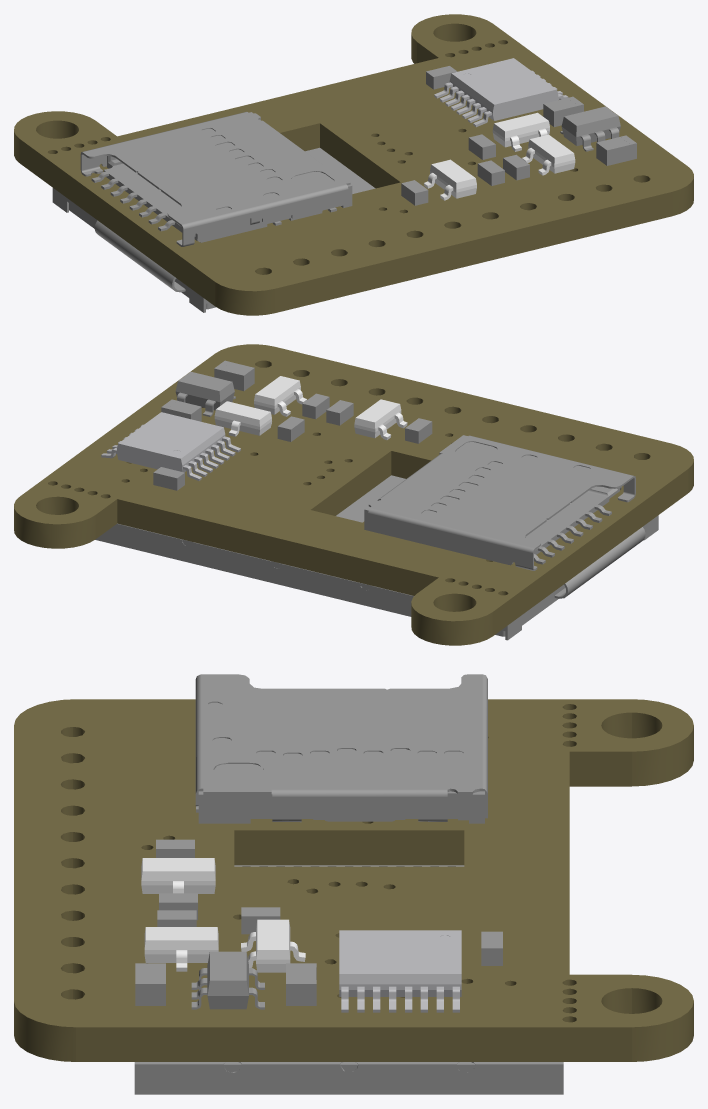
Rendered from ada-4383.glb.
The picture shows the model from 3 angles, top to bottom: view 1: azimuth 30°, elevation 25°; view 2: azimuth 150°, elevation 25°; view 3: azimuth 270°, elevation 25°; orthographic projection. The views are drawn at different scales.
Visible parts, largest first — view 1: 0.16666666666666666_0.16666666666666666_0.08333333333333333_, 0.3333333333333333_0.3333333333333333_0.3333333333333333_0, 0.5833333333333334_0.5833333333333334_0.5833333333333334_0.8, 0.9166666666666666_0.9166666666666666_0.9166666666666666_0.8; view 2: 0.16666666666666666_0.16666666666666666_0.08333333333333333_, 0.3333333333333333_0.3333333333333333_0.3333333333333333_0, 0.5833333333333334_0.5833333333333334_0.5833333333333334_0.8, 0.9166666666666666_0.9166666666666666_0.9166666666666666_0.8; view 3: 0.16666666666666666_0.16666666666666666_0.08333333333333333_, 0.3333333333333333_0.3333333333333333_0.3333333333333333_0, 0.5833333333333334_0.5833333333333334_0.5833333333333334_0.8, 0.9166666666666666_0.9166666666666666_0.9166666666666666_0.8.
Part boxes in pixels (bbox=[...]): 0.16666666666666666_0.16666666666666666_0.08333333333333333_: bbox=[14, 14, 693, 315]; 0.3333333333333333_0.3333333333333333_0.3333333333333333_0: bbox=[52, 66, 636, 312]; 0.5833333333333334_0.5833333333333334_0.5833333333333334_0.8: bbox=[434, 58, 568, 127]; 0.9166666666666666_0.9166666666666666_0.9166666666666666_0.8: bbox=[424, 112, 575, 200]; 0.16666666666666666_0.16666666666666666_0.08333333333333333_: bbox=[14, 344, 693, 645]; 0.3333333333333333_0.3333333333333333_0.3333333333333333_0: bbox=[95, 360, 658, 640]; 0.5833333333333334_0.5833333333333334_0.5833333333333334_0.8: bbox=[101, 412, 240, 480]; 0.9166666666666666_0.9166666666666666_0.9166666666666666_0.8: bbox=[214, 376, 407, 440]; 0.16666666666666666_0.16666666666666666_0.08333333333333333_: bbox=[14, 699, 693, 1061]; 0.3333333333333333_0.3333333333333333_0.3333333333333333_0: bbox=[134, 674, 563, 1094]; 0.5833333333333334_0.5833333333333334_0.5833333333333334_0.8: bbox=[339, 930, 461, 1012]; 0.9166666666666666_0.9166666666666666_0.9166666666666666_0.8: bbox=[141, 858, 305, 972].
Size of the model in its own units: 3.18 by 0.4545 by 2.78.
